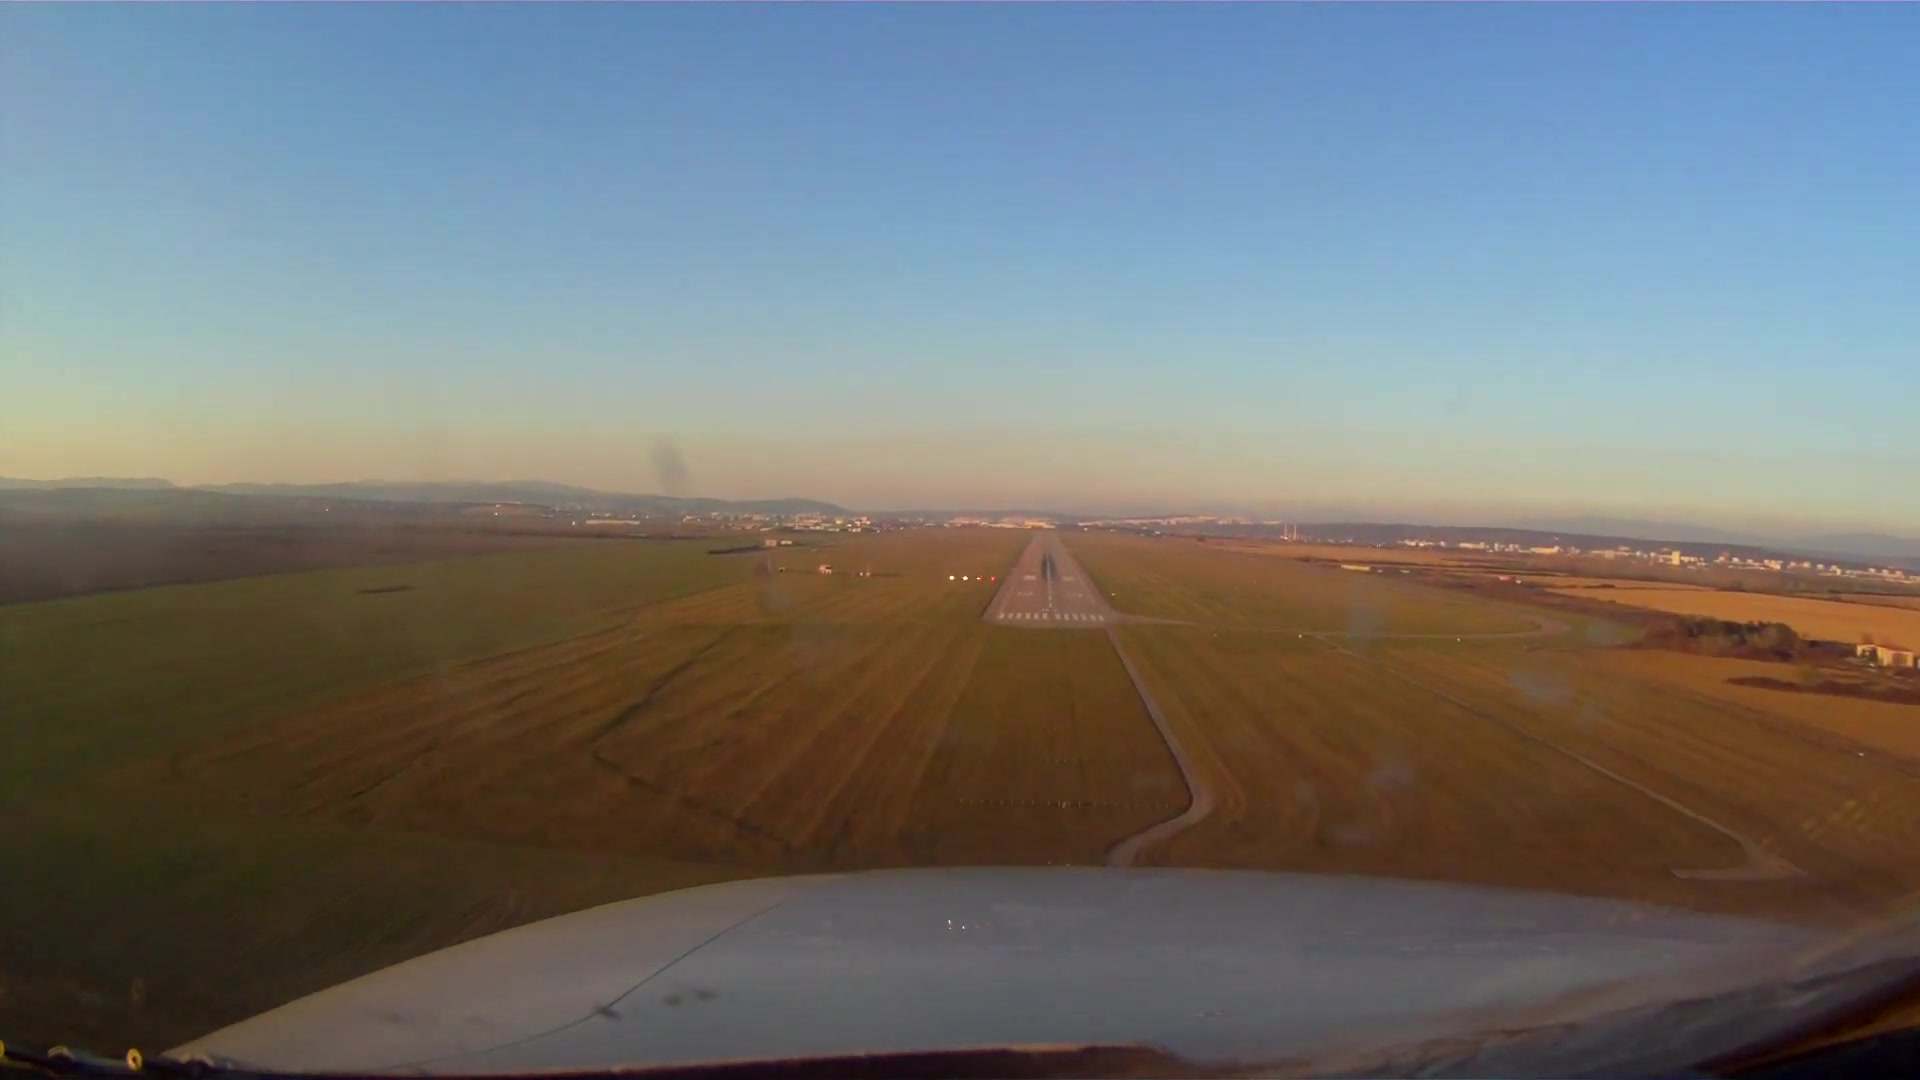entrance: (996, 609, 1110, 625)
runway: (978, 531, 1124, 630)
